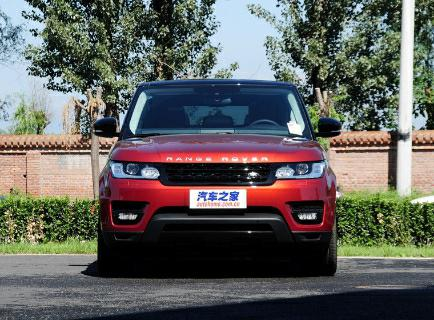路虎-揽胜运动版: (87, 71, 346, 278)
